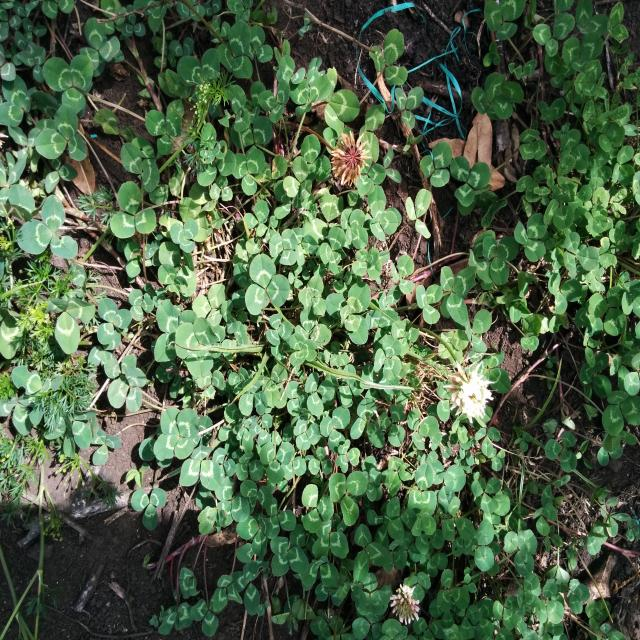Four Leaf Clover: (153, 407, 199, 461), (340, 208, 368, 249)
